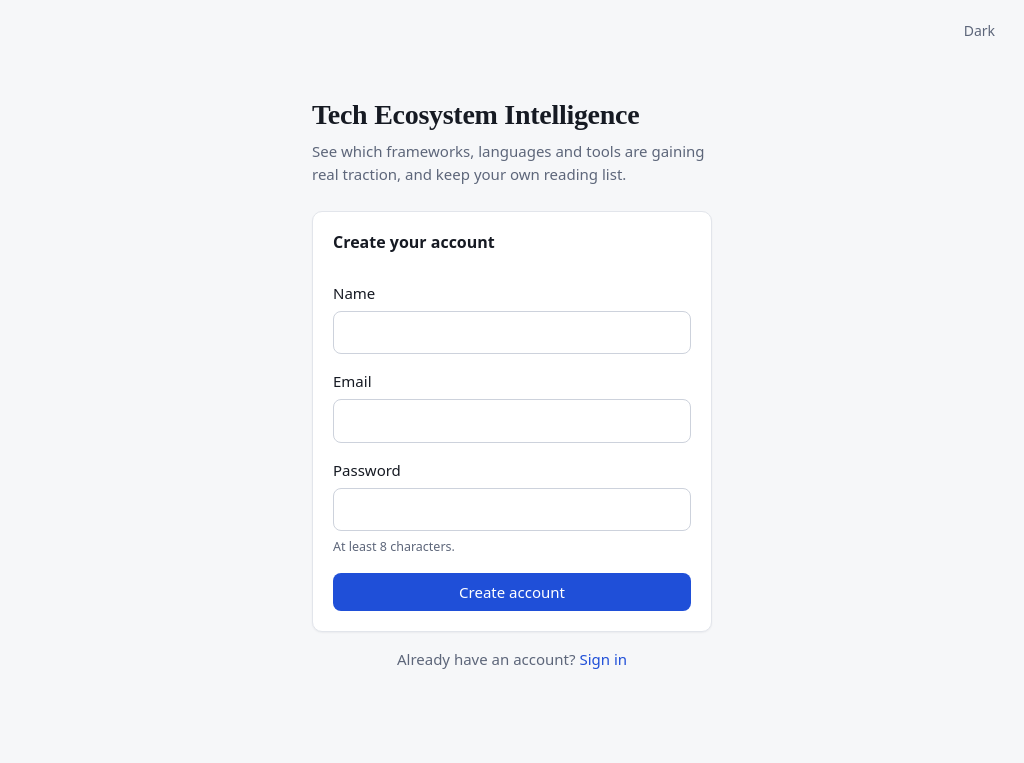
Test: a user's journey through the app › protects the app after signing out
In the field labelled "Name": (512, 333) [333,311,691,354], type "Ada"
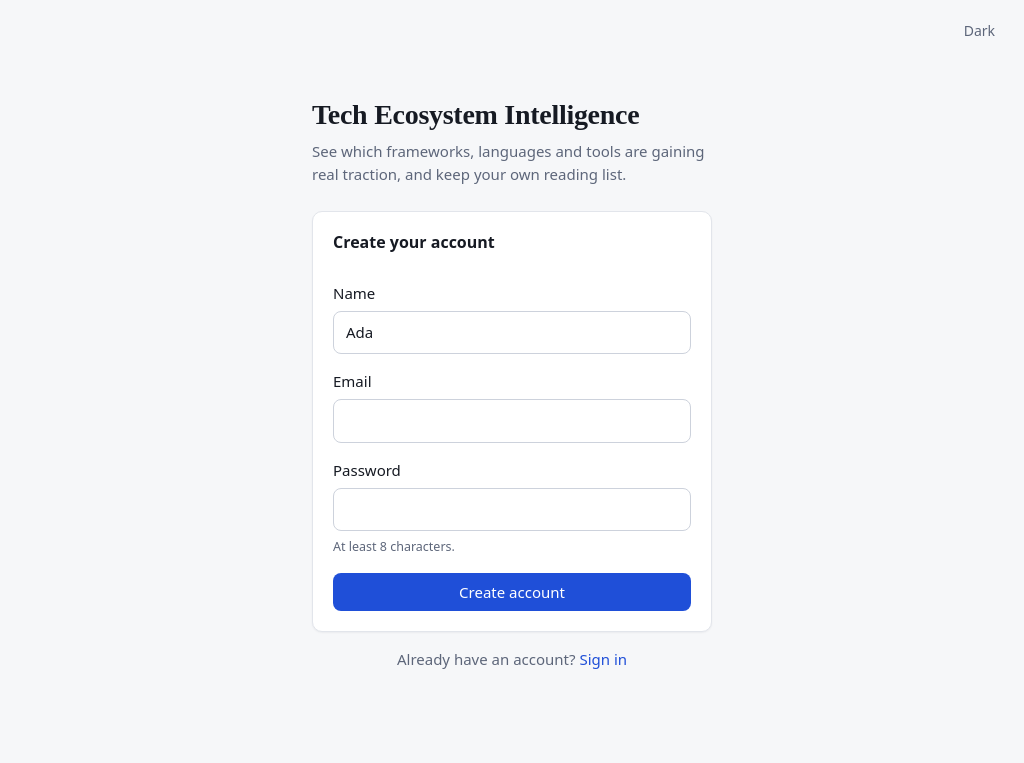
In the field labelled "Email": (512, 421) [333,399,691,443], type "ada@example.com"
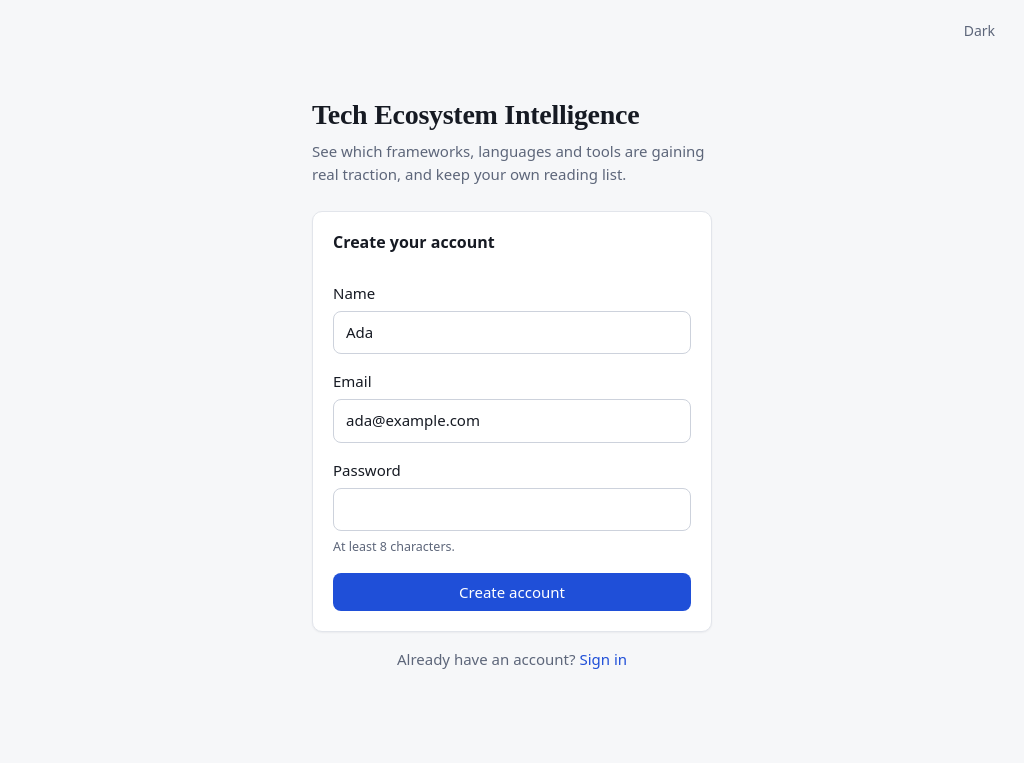
In the password field labelled "Password At least 8 characters.": (512, 510) [333,488,691,531], type "password123"
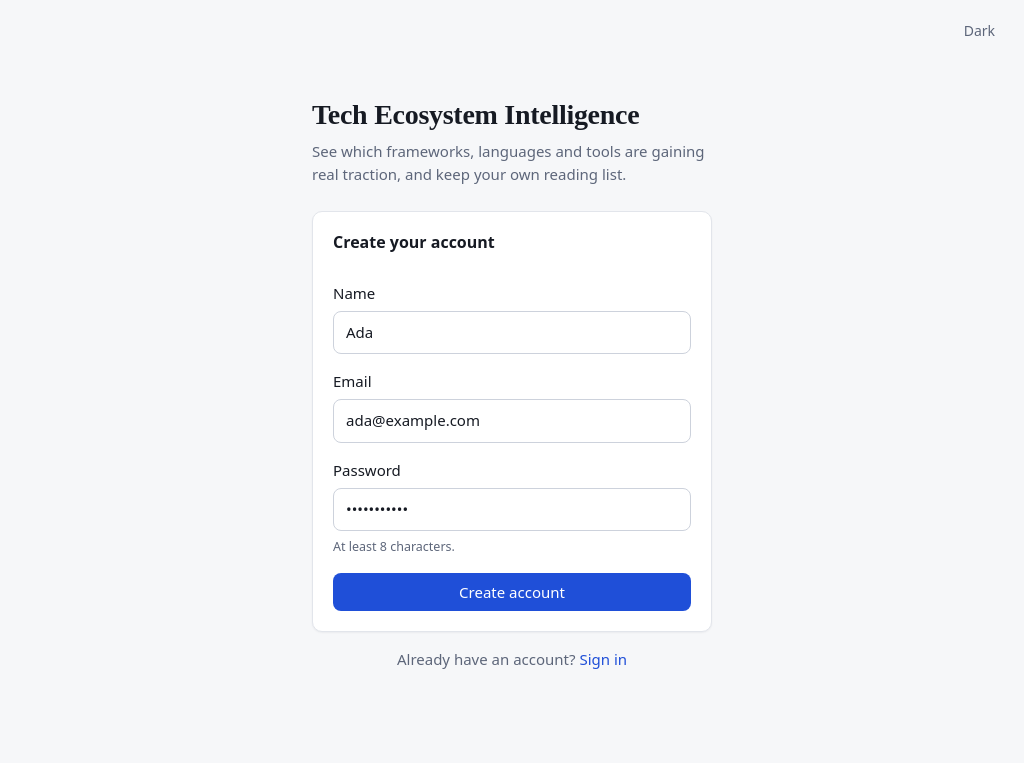
Click the button "Create account": (512, 592) [333,573,691,611]
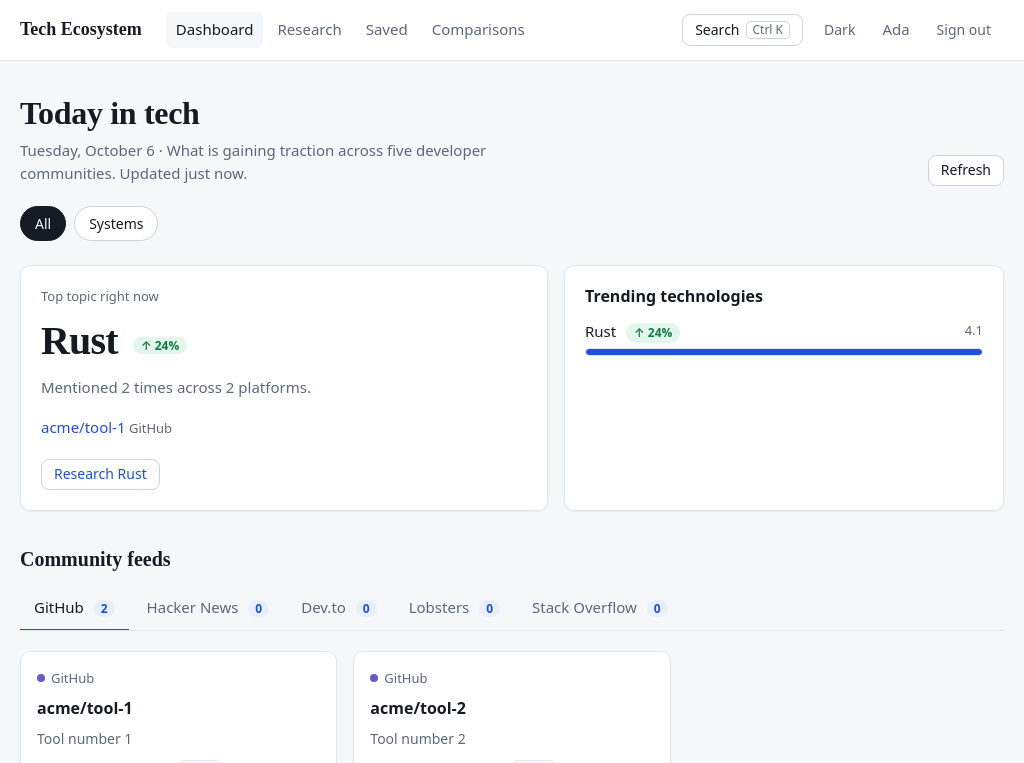
Click the button "Sign out": (964, 30) [924,15,1004,45]
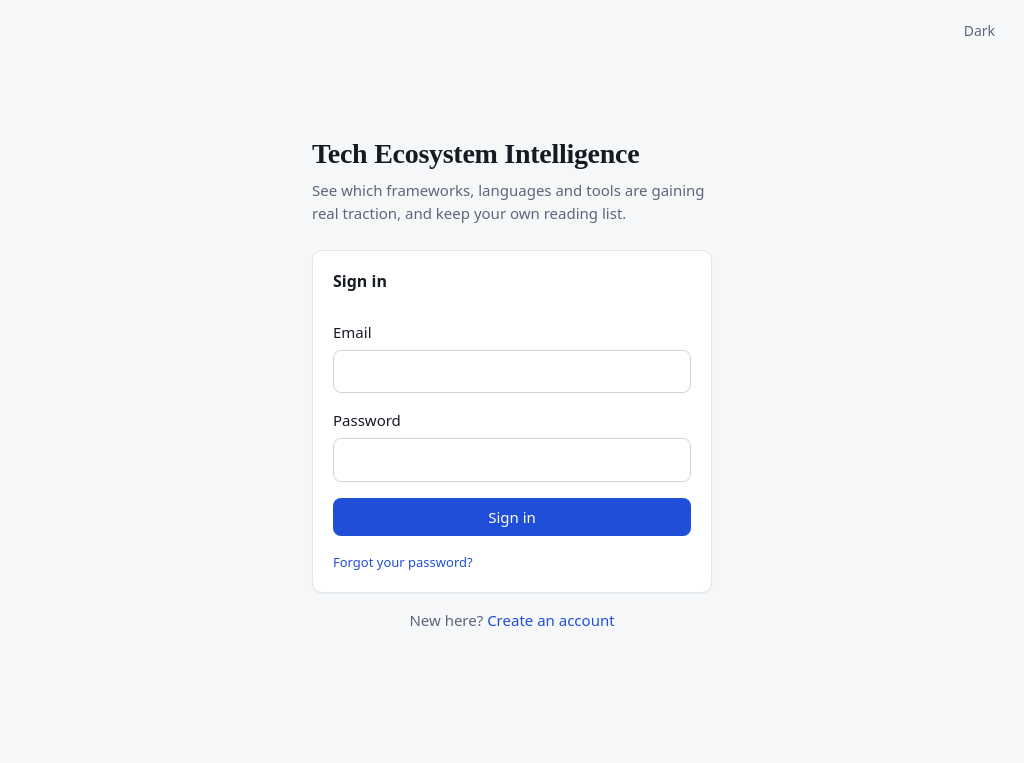
Result: the heading "Today in tech" is gone
